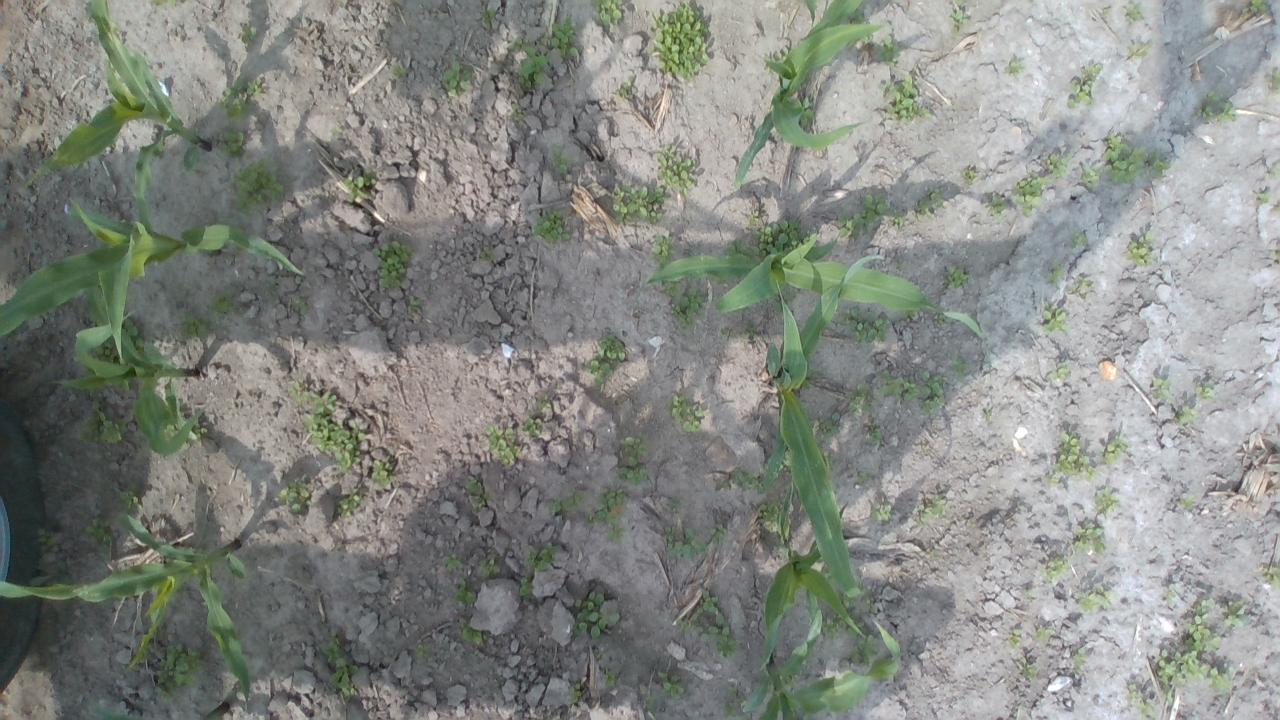Maize: (0, 196, 304, 368), (0, 514, 256, 712), (757, 254, 887, 604), (20, 0, 210, 231), (632, 232, 980, 340), (732, 0, 888, 188), (46, 282, 207, 458), (756, 478, 866, 670), (741, 609, 903, 720), (82, 700, 229, 720), (784, 0, 818, 27)
Weeds: (300, 391, 370, 472), (648, 1, 712, 86), (672, 589, 738, 660), (153, 642, 206, 706), (230, 157, 286, 217), (750, 216, 817, 264), (1156, 648, 1210, 704), (878, 74, 933, 126), (1046, 432, 1096, 488), (568, 588, 622, 638), (836, 192, 894, 238), (319, 636, 362, 694), (586, 487, 629, 544), (611, 182, 666, 226), (654, 142, 696, 198), (212, 75, 262, 122), (74, 406, 128, 448), (1102, 134, 1146, 184), (369, 240, 412, 290), (1182, 596, 1220, 652), (506, 37, 546, 90), (585, 333, 626, 384), (613, 432, 650, 487), (840, 308, 890, 344), (482, 423, 522, 467), (1014, 171, 1050, 218), (665, 392, 705, 434), (1067, 62, 1102, 110), (540, 17, 578, 60), (1194, 90, 1236, 126), (664, 524, 708, 558), (672, 286, 706, 329), (717, 465, 765, 494), (162, 418, 208, 448), (535, 207, 572, 244), (276, 479, 314, 515), (879, 368, 918, 402), (819, 612, 866, 640), (339, 168, 376, 202), (1121, 230, 1155, 266), (914, 493, 948, 528), (1072, 521, 1106, 556), (441, 60, 473, 97), (920, 371, 946, 414), (520, 542, 557, 572), (1077, 585, 1118, 612), (914, 187, 944, 222), (848, 633, 878, 668), (846, 380, 876, 414), (650, 233, 676, 272), (208, 286, 241, 316), (464, 474, 491, 510), (456, 616, 488, 646), (1040, 302, 1070, 334), (120, 315, 146, 351), (1099, 436, 1128, 468), (658, 670, 688, 700), (88, 335, 120, 363), (84, 517, 116, 545), (368, 459, 398, 488), (215, 126, 242, 158), (591, 0, 624, 26), (1094, 485, 1120, 518), (180, 310, 210, 338), (1039, 556, 1069, 584), (757, 494, 779, 532), (337, 486, 363, 518), (550, 490, 584, 514), (876, 34, 900, 66), (762, 46, 789, 74), (1206, 667, 1234, 692), (1221, 600, 1246, 628), (1146, 151, 1170, 180), (119, 486, 145, 512), (453, 578, 478, 605), (818, 412, 843, 439), (986, 192, 1009, 221), (722, 237, 752, 259), (1070, 276, 1096, 300), (286, 379, 310, 404), (944, 264, 969, 288), (1046, 152, 1070, 177), (522, 412, 544, 438), (1136, 698, 1162, 720), (948, 8, 968, 36), (1079, 163, 1100, 189), (797, 96, 815, 126), (870, 500, 893, 523), (1045, 260, 1067, 284), (1123, 2, 1147, 24), (865, 419, 885, 445), (549, 148, 569, 174), (35, 524, 60, 544), (834, 590, 860, 609), (478, 558, 502, 578), (778, 673, 802, 693), (1150, 377, 1170, 401), (1046, 360, 1070, 380), (818, 446, 836, 472), (1175, 404, 1197, 425), (1252, 188, 1276, 207), (1126, 41, 1150, 60), (1262, 564, 1280, 589), (1072, 646, 1089, 672), (1070, 228, 1090, 250), (616, 73, 635, 96), (1031, 627, 1055, 645), (239, 24, 258, 46), (516, 575, 534, 598), (775, 446, 792, 470), (772, 295, 796, 312), (439, 554, 464, 570), (1194, 382, 1216, 400), (709, 522, 726, 545), (1264, 66, 1280, 90), (1019, 658, 1038, 678), (1126, 683, 1142, 705), (862, 596, 880, 615), (1004, 60, 1025, 76), (567, 682, 582, 704), (664, 280, 682, 298), (1179, 492, 1198, 509), (1006, 629, 1022, 649), (850, 8, 868, 25), (1249, 0, 1269, 15), (800, 369, 814, 390), (719, 704, 740, 718), (536, 394, 552, 412), (294, 297, 309, 316), (1164, 582, 1176, 605), (954, 357, 966, 379), (406, 296, 422, 312), (601, 670, 617, 686), (478, 246, 494, 262), (963, 168, 978, 185), (853, 469, 870, 484), (390, 66, 410, 78), (509, 104, 523, 120), (480, 8, 496, 22), (1269, 242, 1280, 262), (1270, 160, 1280, 180), (748, 209, 759, 227), (151, 0, 179, 7), (894, 258, 908, 271), (414, 641, 424, 658), (746, 322, 756, 339), (667, 497, 680, 510), (934, 312, 946, 326), (726, 686, 738, 700), (644, 694, 656, 708), (894, 213, 904, 228), (984, 406, 993, 421), (331, 124, 342, 136), (860, 34, 874, 43), (596, 650, 606, 660), (926, 548, 936, 558), (902, 310, 918, 316), (1102, 6, 1112, 15), (1023, 588, 1034, 596), (719, 328, 730, 335), (952, 0, 962, 6)
